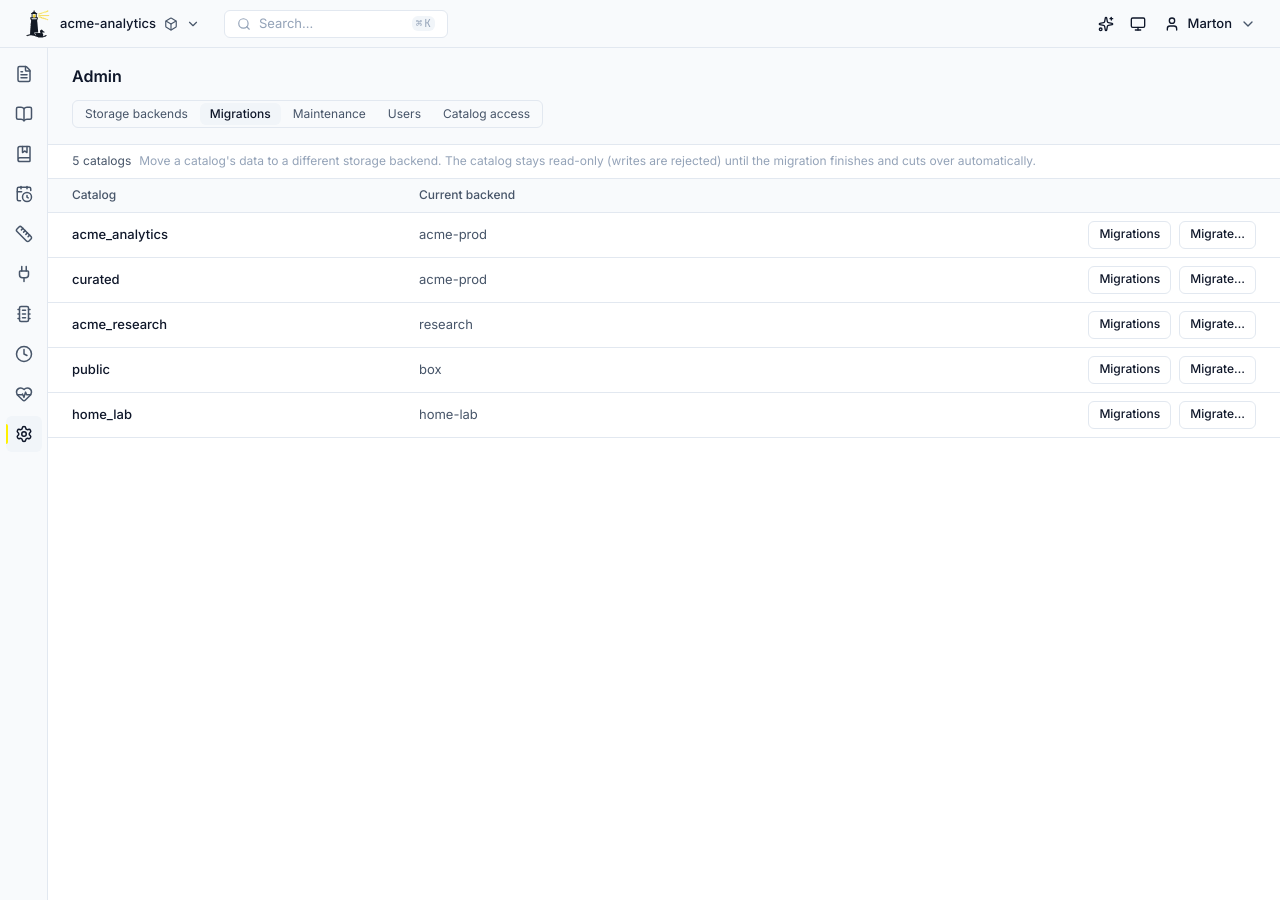
CatalogMigrationsPage › lists catalogs and excludes the current backend from the target picker
The image size is (1280, 900).
Click the button "Migrate…" in the row of "acme_analytics" at (1218, 235), box [1179,221,1256,249]
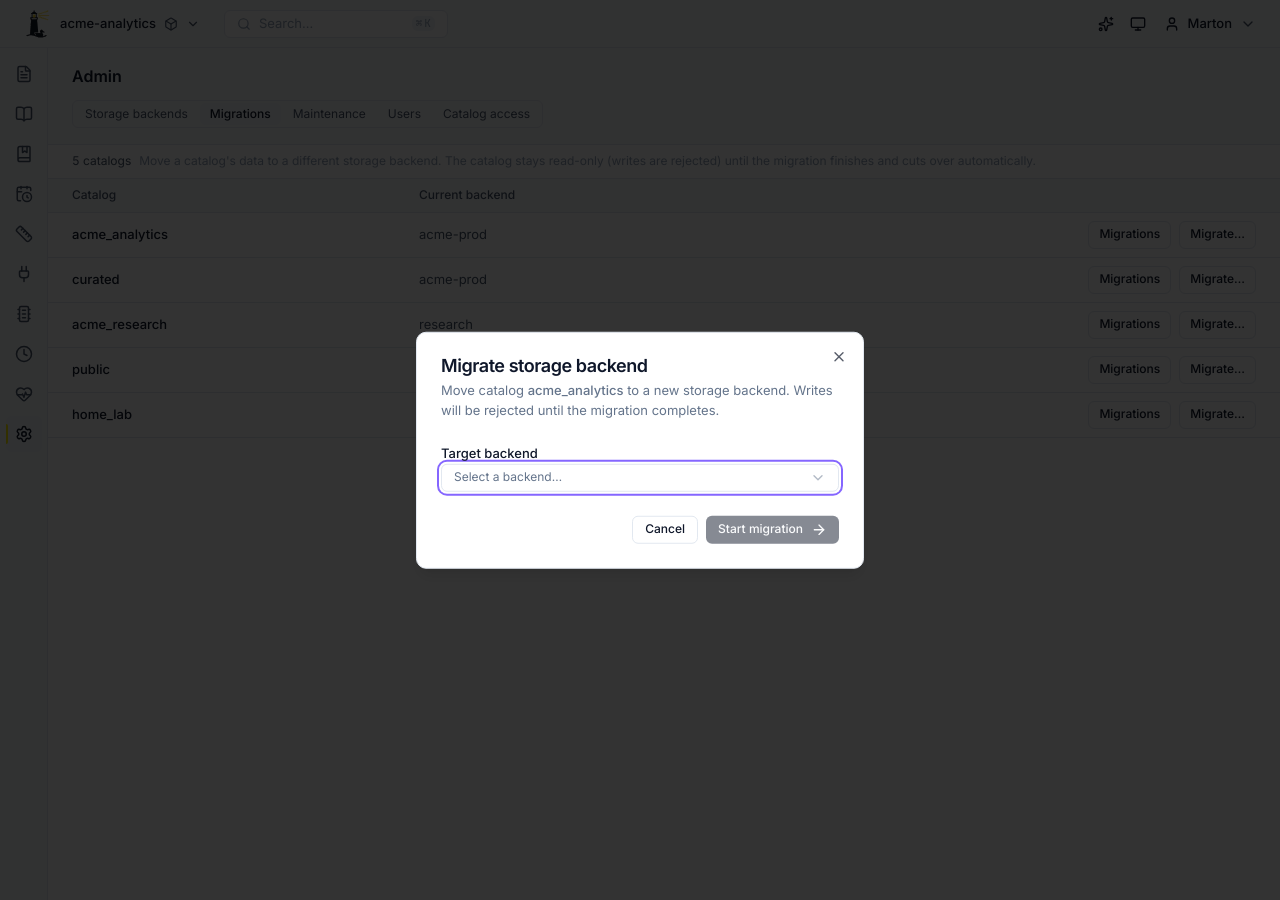
Click the dropdown named "target backend" at (508, 476), box [441,463,839,491]
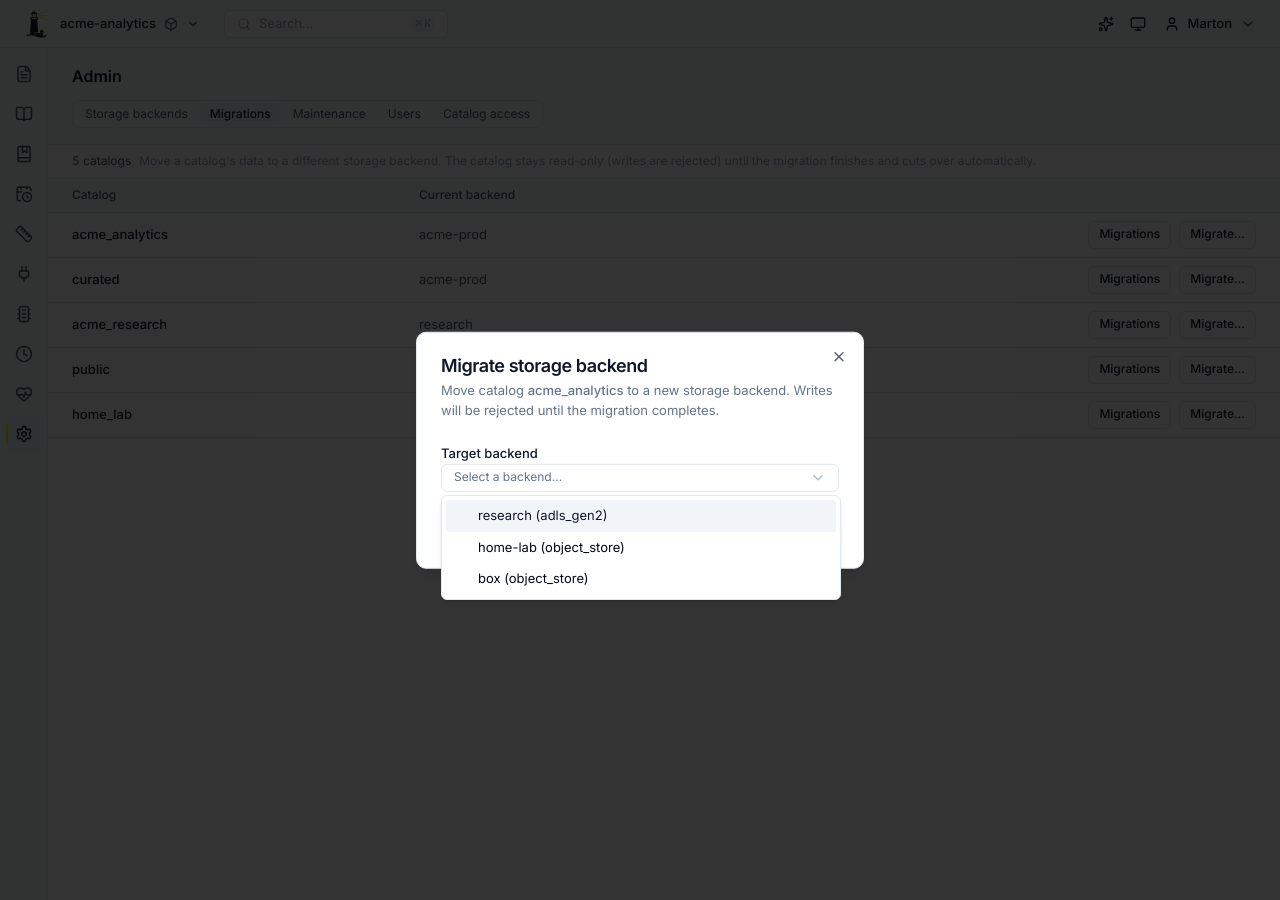
Check: the option "research (adls_gen2)" is shown, box [446,500,836,532]
